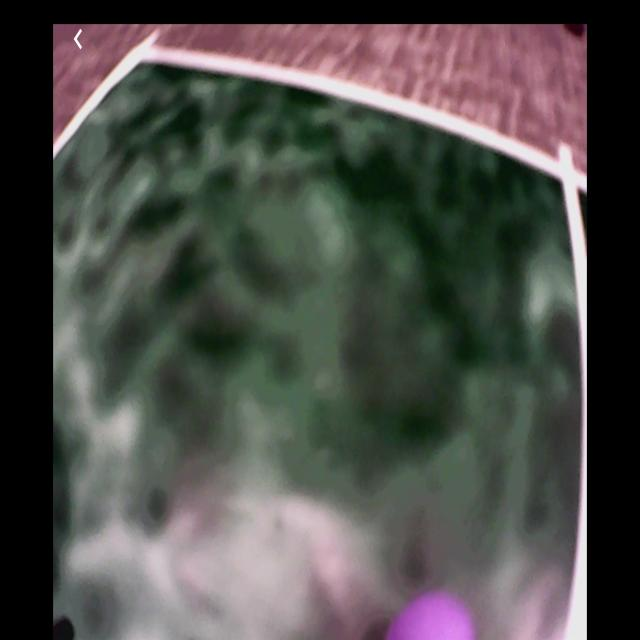ball: (388, 589, 475, 640)
